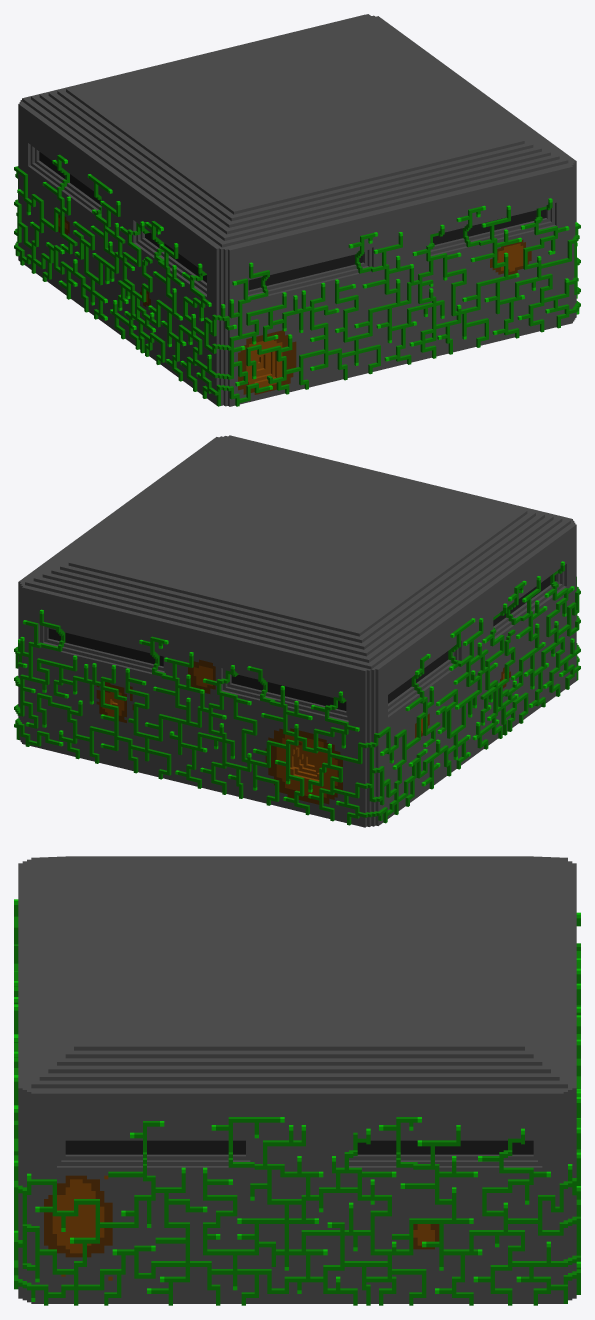
File: bunker.obj
The picture shows the model from 3 angles, top to bottom: view 1: azimuth 30°, elevation 25°; view 2: azimuth 150°, elevation 25°; view 3: azimuth 270°, elevation 25°; orthographic projection. The views are drawn at different scales.
Bounding box in the file's own units: 13.2 × 6 × 13.2.
1 material, 1 textured.
